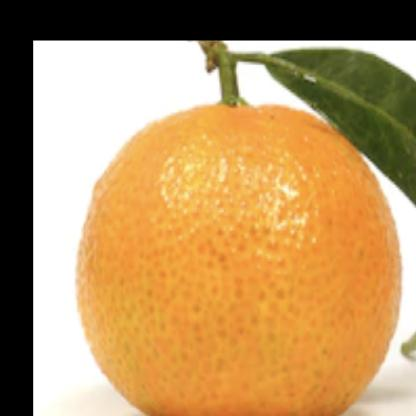fresh: (74, 97, 401, 416)
